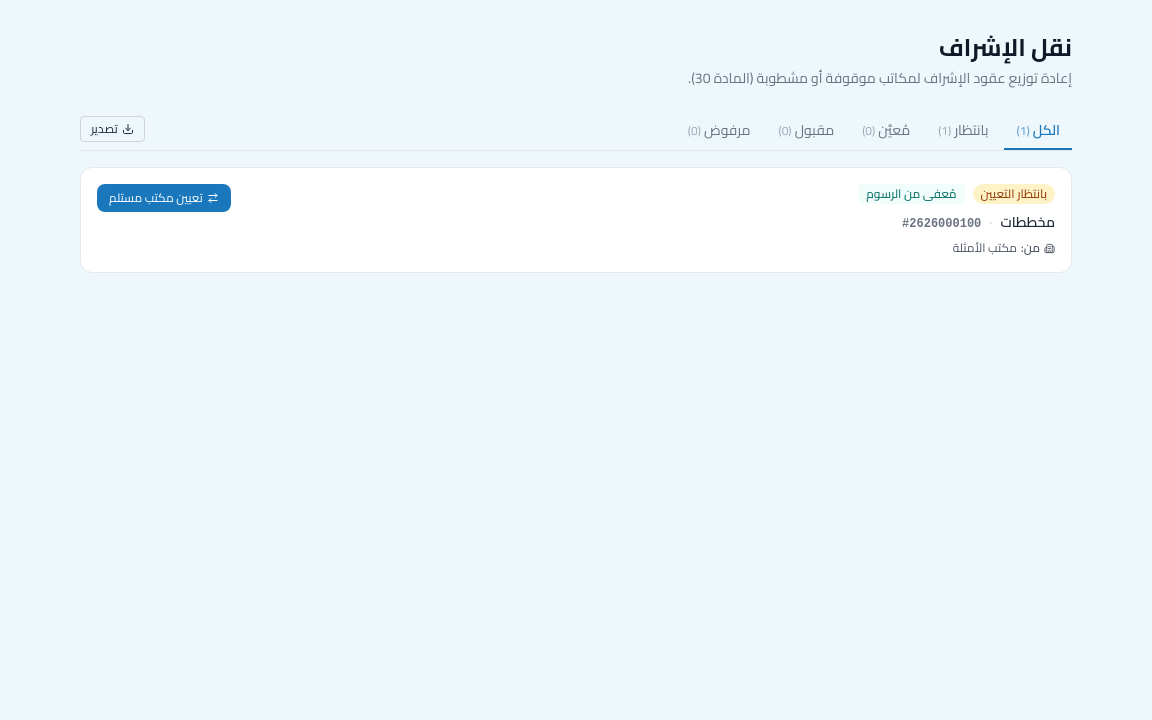
it: SupervisionTransfersAdmin (JORD-83 UI) › opens the assign modal and posts the picked target office
Click the button with test id "assign-btn-1" at (164, 198), box x1=97 y1=184 x2=231 y2=212
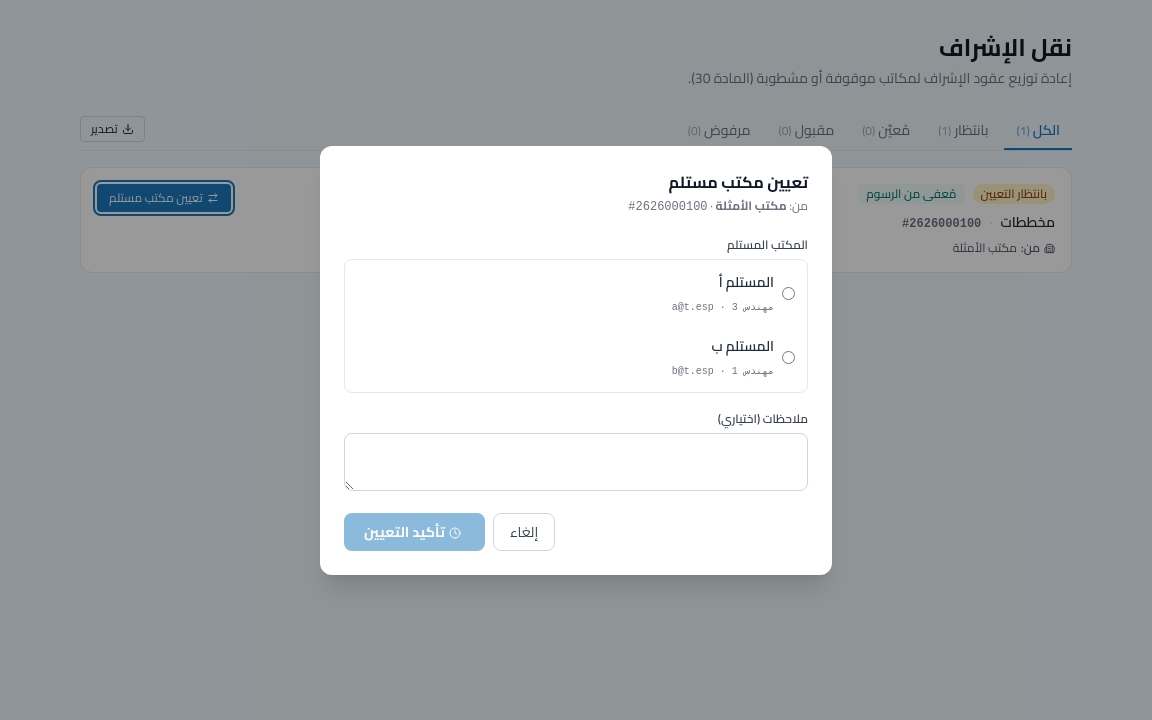
Expected: the dialog with test id "assign-modal" is shown
Expected: the text "المستلم أ a@t.esp · 3 مهندس" is shown, x1=672 y1=268 x2=795 y2=312
Expected: the text "المستلم ب b@t.esp · 1 مهندس" is shown, x1=672 y1=332 x2=795 y2=376
Click the radio button labelled "المستلم ب b@t.esp · 1 مهندس" at (788, 358), box x1=782 y1=351 x2=795 y2=364
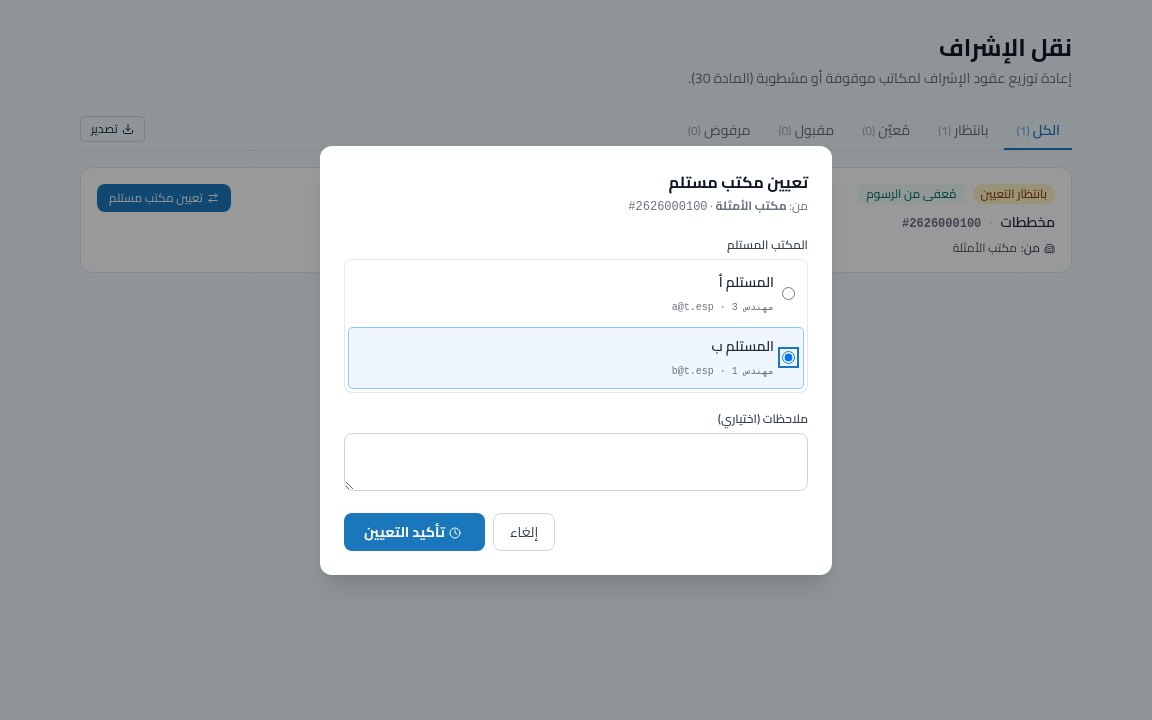
Click the button with test id "assign-submit" at (414, 532), box x1=344 y1=512 x2=485 y2=550
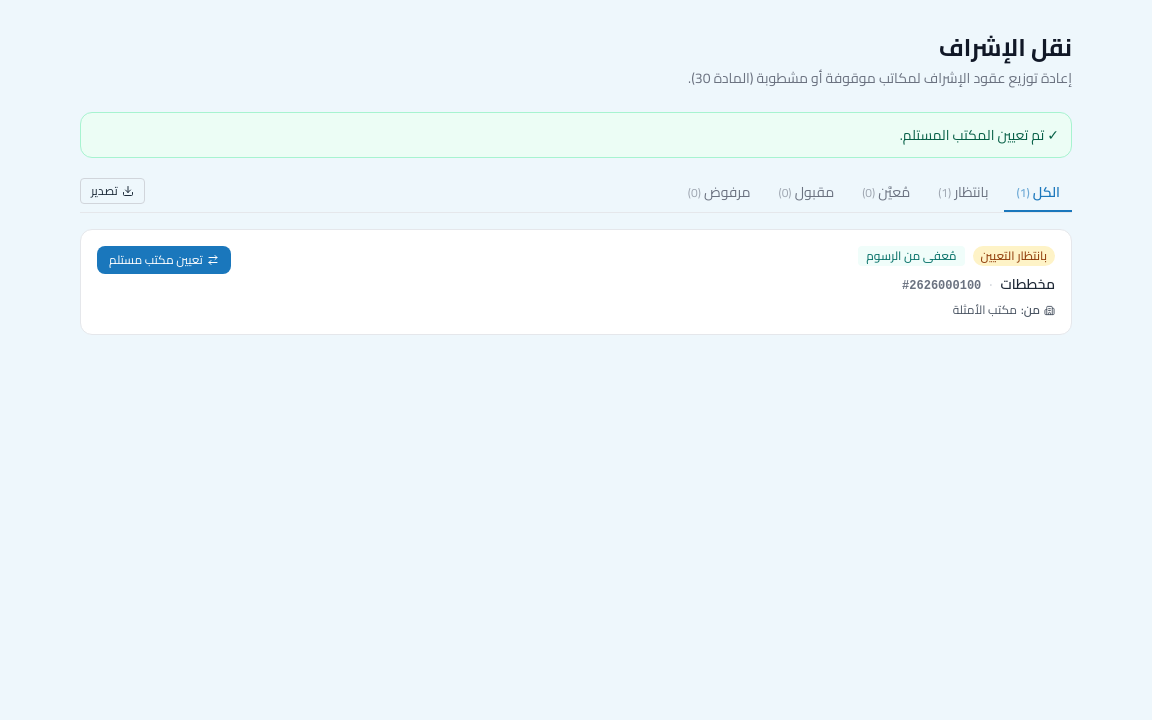
Expected: the dialog with test id "assign-modal" is gone
